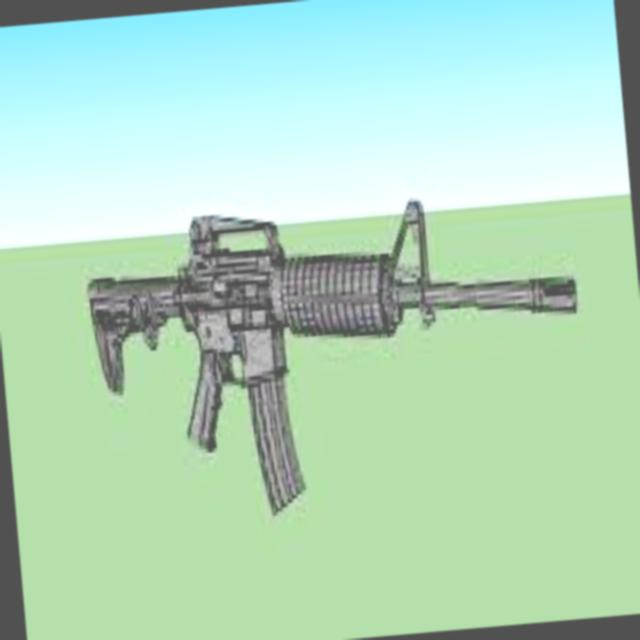m16: (62, 128, 622, 560)
